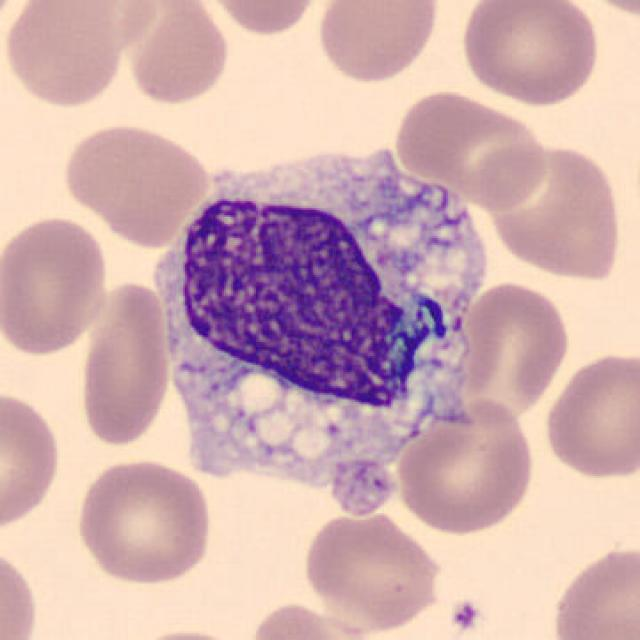Monocyte: (140, 134, 490, 495)
Platelets: (327, 455, 398, 518), (446, 596, 484, 636)
RBC: (478, 139, 626, 284), (393, 395, 539, 536), (58, 118, 212, 247), (71, 455, 215, 587), (391, 86, 549, 205), (299, 508, 446, 633), (453, 277, 572, 423), (75, 276, 174, 449), (0, 211, 112, 358), (457, 0, 604, 108), (0, 0, 130, 109), (540, 347, 638, 483), (123, 0, 233, 108), (313, 0, 443, 85), (0, 384, 64, 534), (547, 539, 640, 640), (18, 2, 164, 51), (462, 140, 551, 213), (243, 597, 375, 640), (199, 0, 325, 37), (0, 539, 42, 640), (594, 1, 640, 18)
